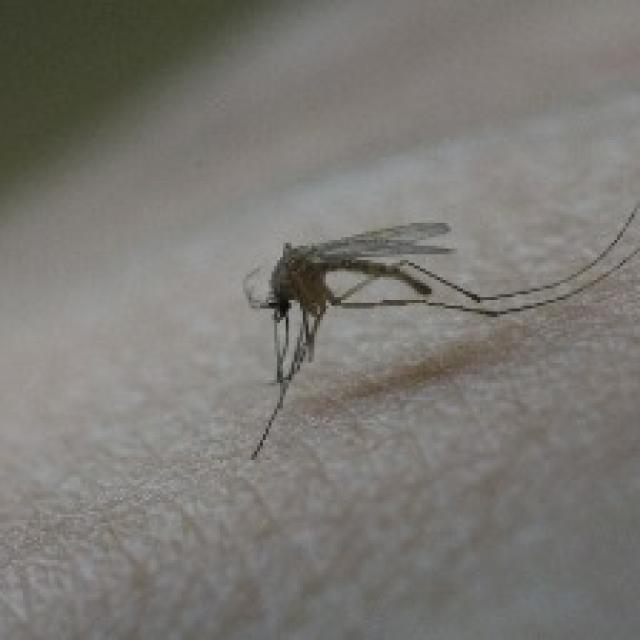culex: (240, 189, 637, 460)
